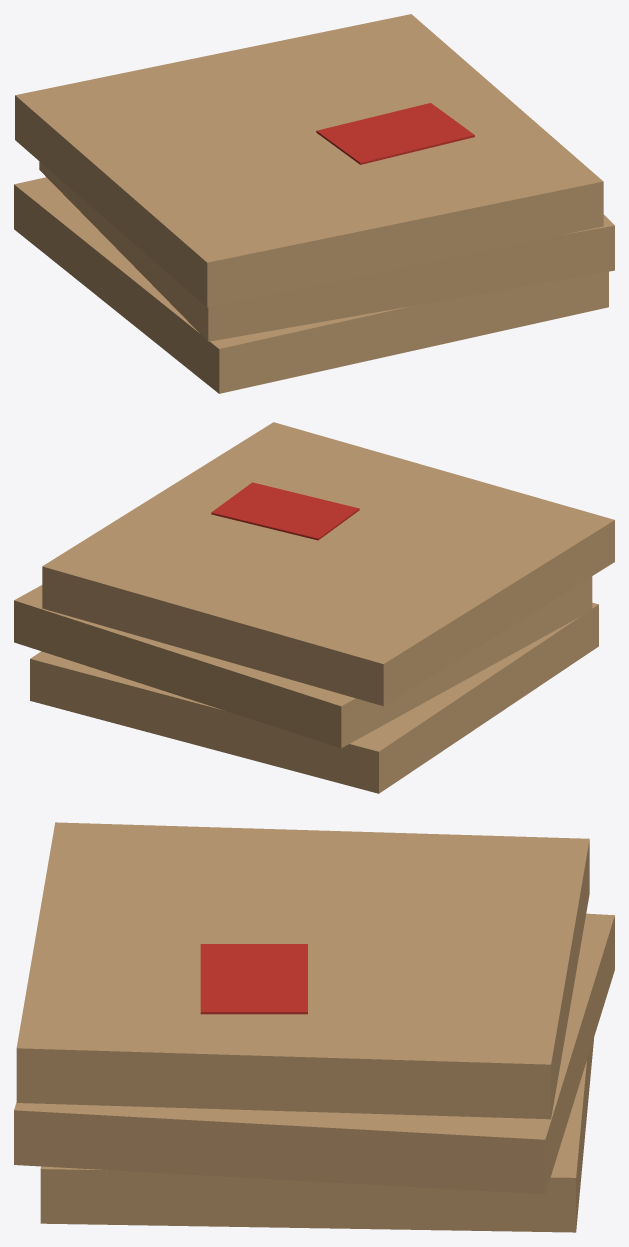
File: Deco_PizzaBoxes.gltf
3 renders of one model, top to bottom at view 1: azimuth 30°, elevation 25°; view 2: azimuth 150°, elevation 25°; view 3: azimuth 270°, elevation 25°, orthographic. The views are drawn at different scales.
Parts seen in each view (by area): view 1: Deco_PizzaBoxes; view 2: Deco_PizzaBoxes; view 3: Deco_PizzaBoxes.
Part boxes in pixels (x1,y1,x2,y2): Deco_PizzaBoxes: (14, 14, 614, 393); Deco_PizzaBoxes: (14, 422, 614, 793); Deco_PizzaBoxes: (14, 822, 614, 1232).
Bounding box in the file's own units: 0.4618 × 0.141 × 0.4486.
